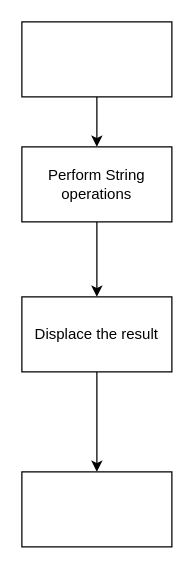
This 194x569 diagram has some shape labels left out. Each missing label, with the box of its shape:
End: (21, 471, 172, 547)
Start: Create String with double and triple quotes: (21, 21, 172, 97)
